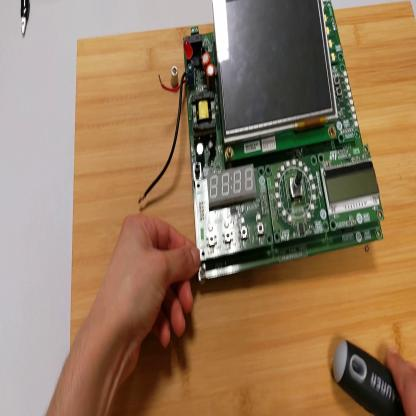hand: (98, 214, 203, 379), (383, 344, 416, 416)
low voltage board: (138, 3, 386, 282)
screwdriver-: (334, 342, 406, 416)
working area: (70, 8, 416, 414)
